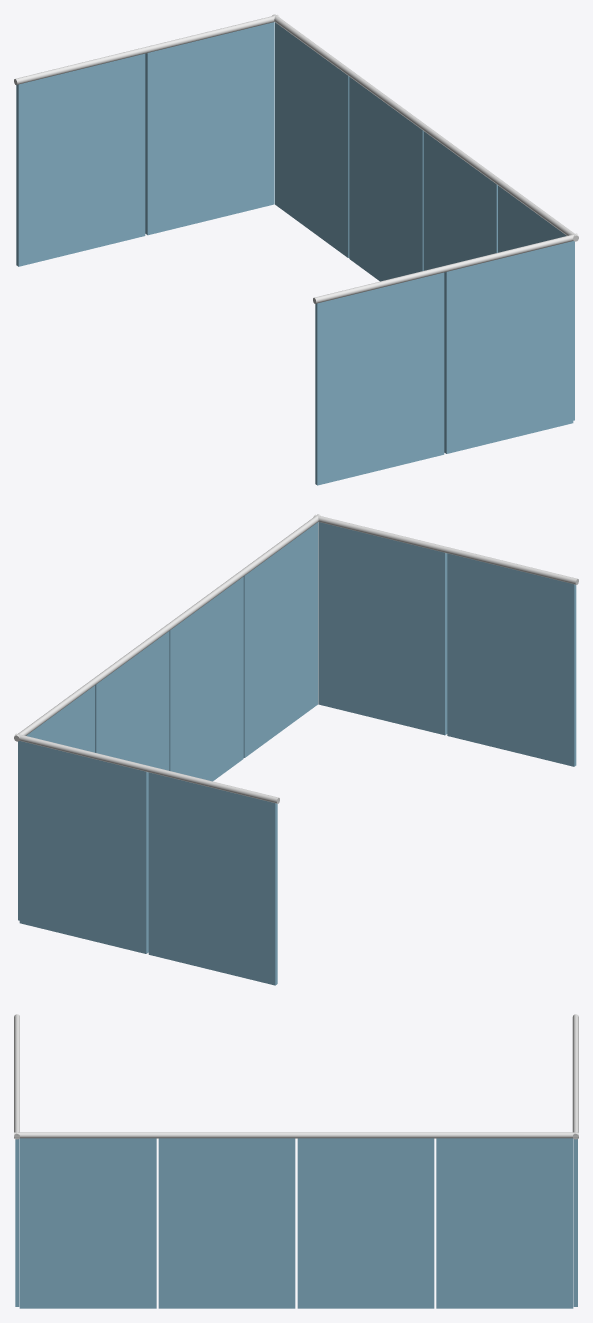
The model's file is Balcony Glass.fbx.
3 renders of one model, top to bottom at view 1: azimuth 30°, elevation 25°; view 2: azimuth 150°, elevation 25°; view 3: azimuth 270°, elevation 25°, orthographic. The views are drawn at different scales.
Parts seen in each view (by area): view 1: pCube5, pCube8, pCube6, pCube7, pCube4, pCube3, pCube2, pCube1, pCylinder1, pCylinder2, pCylinder3; view 2: pCube6, pCube7, pCube8, pCube5, pCube1, pCube2, pCube3, pCube4, pCylinder1, pCylinder3, pCylinder2; view 3: pCube1, pCube2, pCube3, pCube4, pCylinder1, pCylinder3, pCube5, pCube6, pCylinder2.
Boxes of the visible parts, box(x1,y1,x2,y2) form: pCube5: box(145, 22, 274, 235); pCube8: box(16, 53, 145, 266); pCube6: box(444, 241, 573, 453); pCube7: box(315, 272, 444, 485); pCube4: box(275, 22, 349, 257); pCube3: box(349, 77, 423, 281); pCube2: box(423, 131, 497, 270); pCube1: box(498, 185, 574, 420); pCylinder1: box(272, 14, 578, 241); pCylinder2: box(313, 233, 578, 303); pCylinder3: box(14, 15, 279, 84); pCube6: box(318, 522, 447, 735); pCube7: box(447, 553, 576, 766); pCube8: box(148, 772, 277, 985); pCube5: box(19, 741, 148, 953); pCube1: box(243, 522, 317, 757); pCube2: box(169, 577, 243, 781); pCube3: box(95, 631, 169, 770); pCube4: box(18, 685, 94, 920); pCylinder1: box(14, 514, 320, 741); pCylinder3: box(14, 733, 279, 803); pCylinder2: box(313, 514, 578, 584); pCube1: box(19, 1138, 156, 1308); pCube2: box(158, 1138, 295, 1308); pCube3: box(297, 1138, 434, 1308); pCube4: box(436, 1138, 573, 1308); pCylinder1: box(14, 1132, 578, 1138); pCylinder3: box(572, 1014, 578, 1139); pCube5: box(573, 1139, 577, 1306); pCube6: box(15, 1139, 19, 1306); pCylinder2: box(14, 1014, 19, 1139).
Size of the model in its own units: 69.99 by 47.71 by 139.
